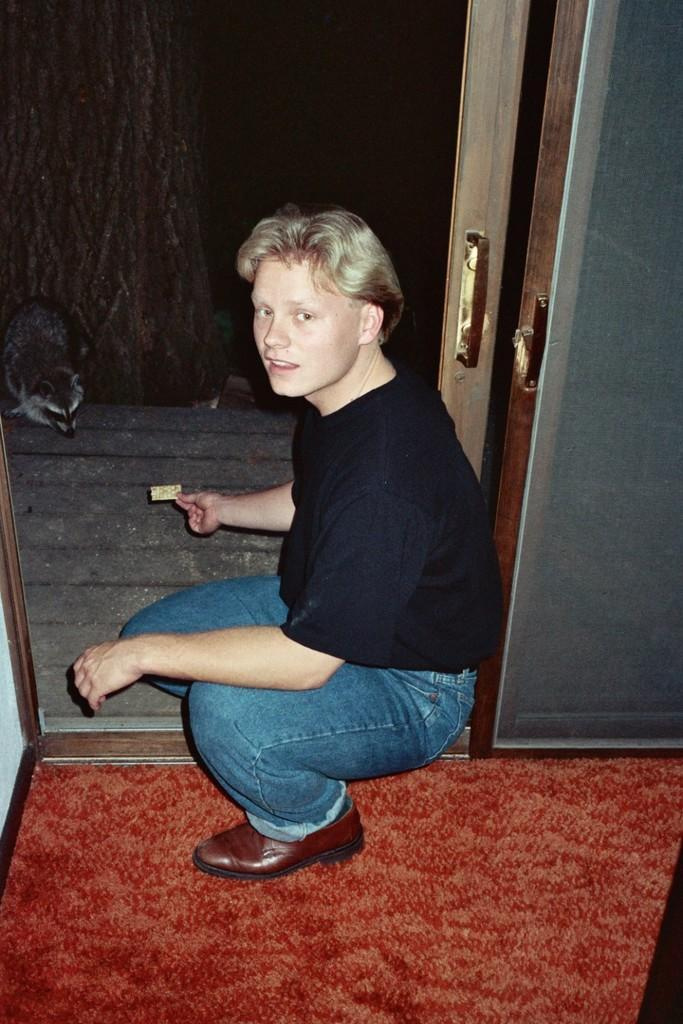handle: (458, 223, 493, 374), (519, 288, 551, 400)
